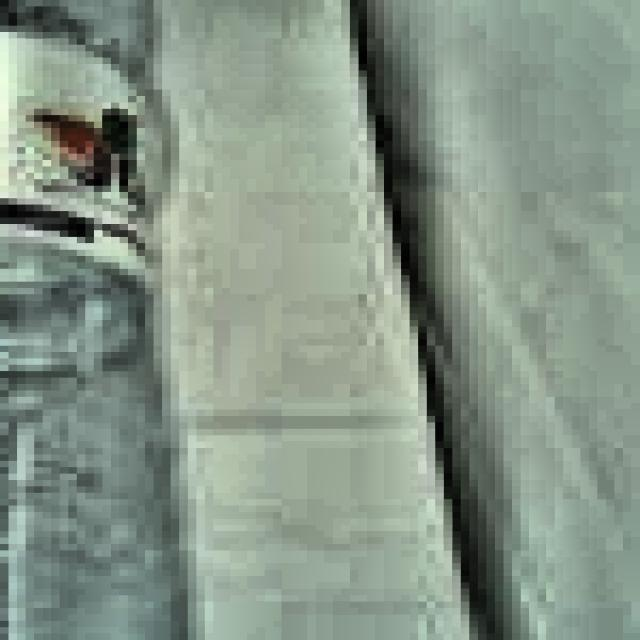plastic: (0, 0, 247, 640)
